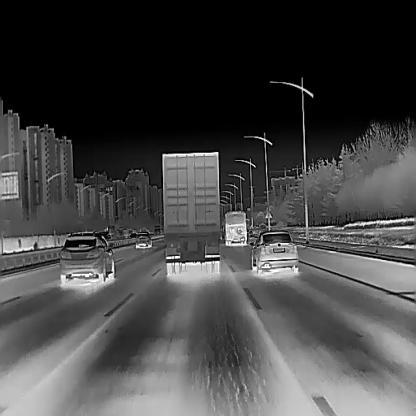car: (162, 151, 220, 274), (59, 230, 115, 282), (250, 229, 298, 271), (225, 211, 247, 246), (136, 231, 152, 247), (154, 224, 161, 234)
